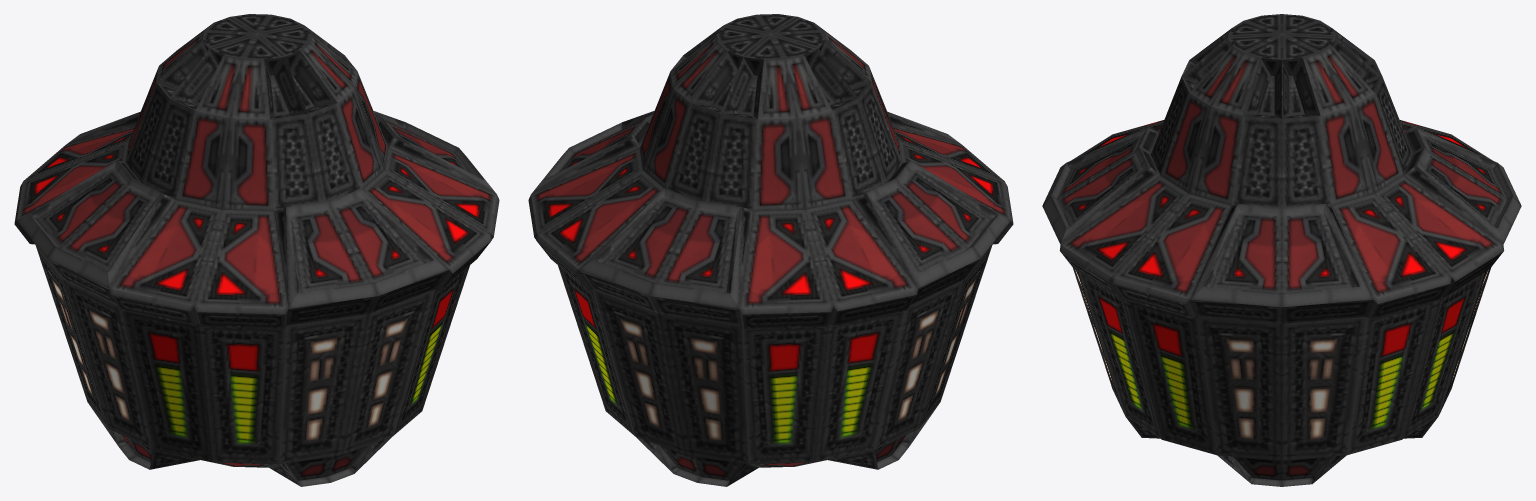
The model's file is BFP_SB_LowerHullSection01.FBX.
The picture shows the model from 3 angles, left to right: view 1: azimuth 30°, elevation 25°; view 2: azimuth 150°, elevation 25°; view 3: azimuth 270°, elevation 25°; orthographic projection.
Parts seen in each view (by area): view 1: BFP_SB_LowerHullSection01; view 2: BFP_SB_LowerHullSection01; view 3: BFP_SB_LowerHullSection01.
Boxes of the visible parts, x1=… form: BFP_SB_LowerHullSection01: x1=14, y1=14, x2=499, y2=486; BFP_SB_LowerHullSection01: x1=528, y1=14, x2=1013, y2=486; BFP_SB_LowerHullSection01: x1=1042, y1=14, x2=1521, y2=486.
Size of the model in its own units: 1347 by 1227 by 1347.
Materials: 1 (1 with a texture image).
